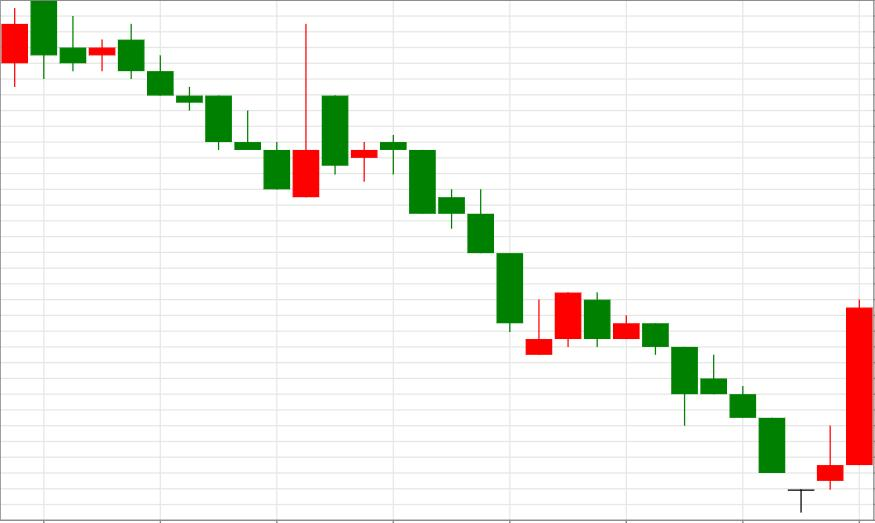inverse_hammer_rise: (118, 24, 318, 198)
